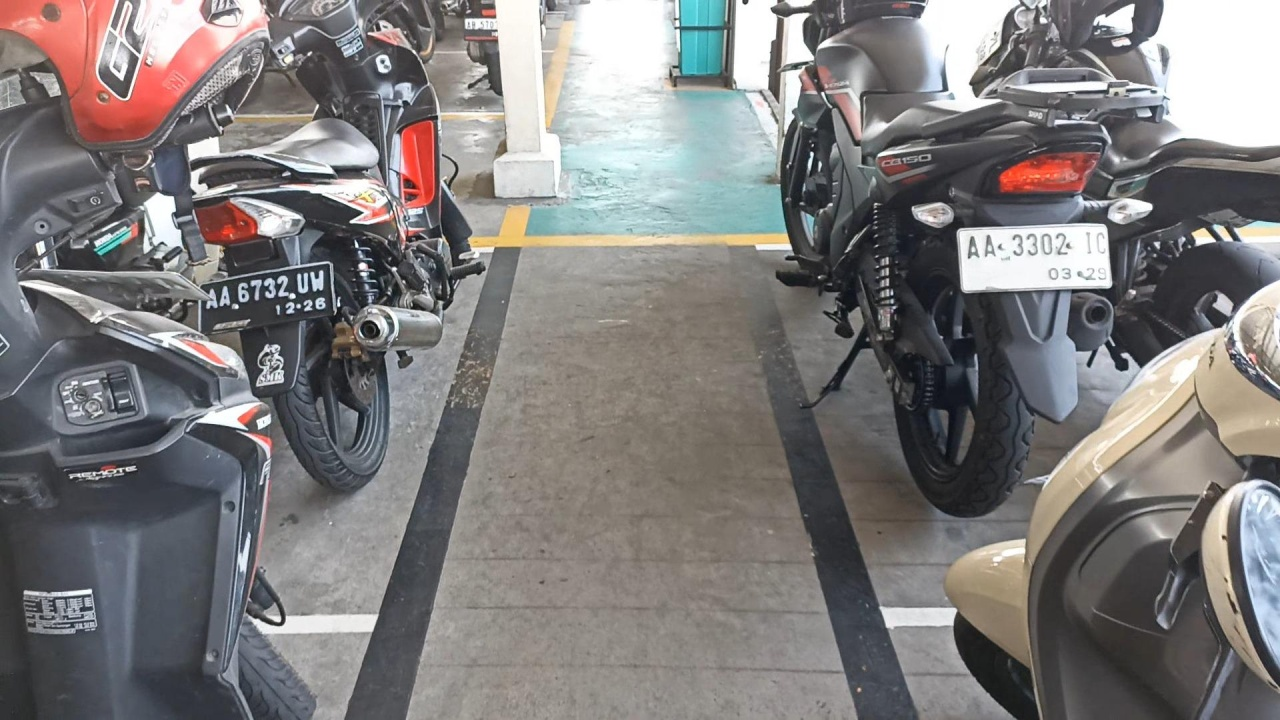plate: (958, 224, 1111, 292), (200, 261, 335, 335)
